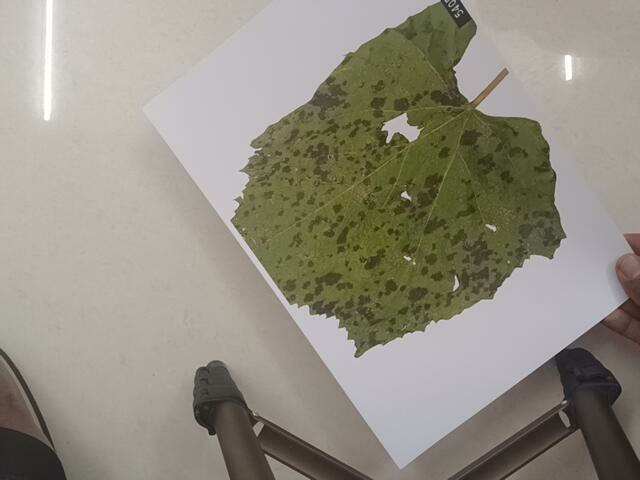Grape_Blight_Leaf: (238, 1, 577, 351)
